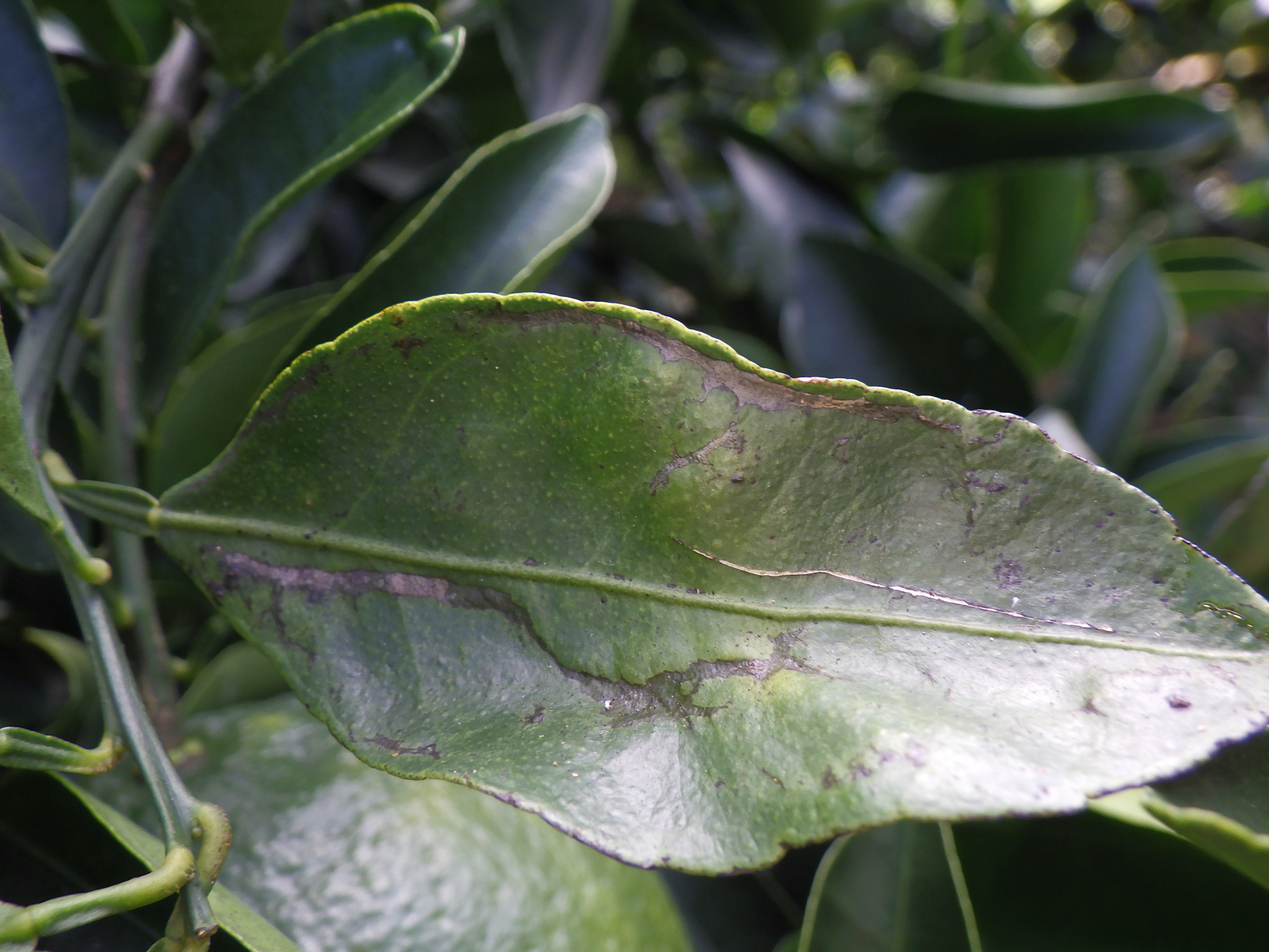Thrips_Damage: (208, 306, 957, 721)
